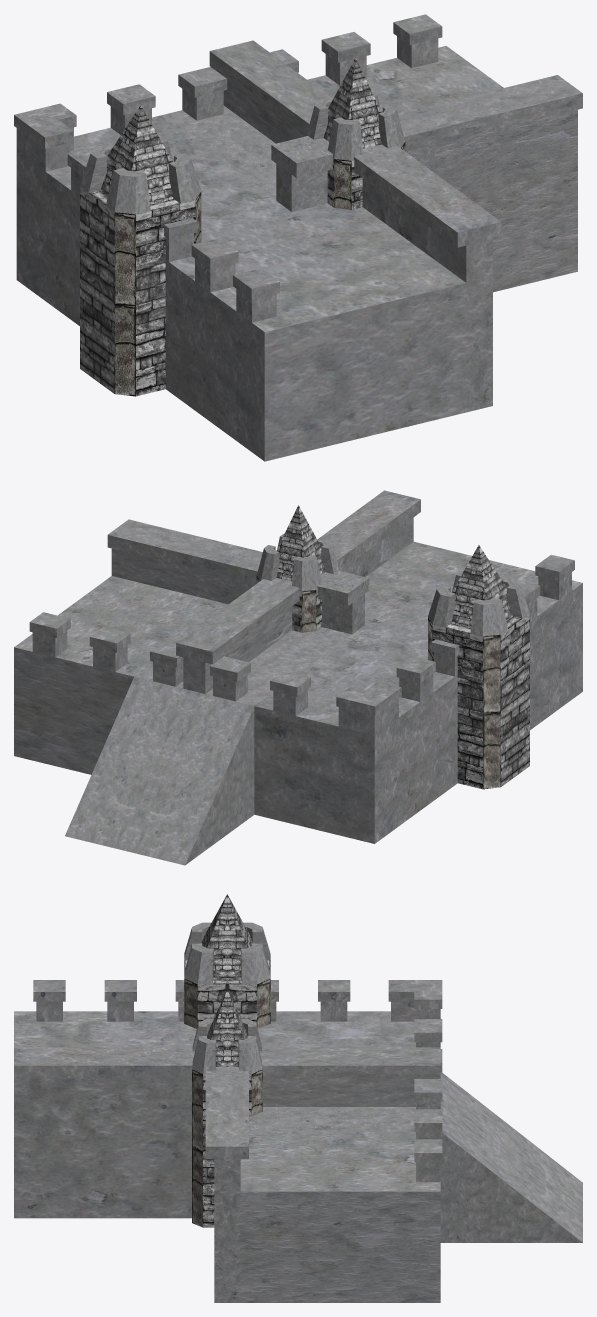
Rendered from ara-wall-v2.fbx.
3 views of the same model, one above another, from view 1: azimuth 30°, elevation 25°; view 2: azimuth 150°, elevation 25°; view 3: azimuth 270°, elevation 25° (orthographic). The views are drawn at different scales.
Parts seen in each view (by area): view 1: connector.Corner-wide, connector.Corner, ara-wall.bk, connector.L, ara-wall, ara-wall-ramp, connector.R; view 2: connector.Corner-wide, connector.Corner, ara-wall-ramp, ara-wall.bk, ara-wall, connector.L, connector.R; view 3: connector.Corner-wide, connector.Corner, ara-wall-ramp, ara-wall.bk, ara-wall, connector.R.
Boxes of the visible parts, <box> form: connector.Corner-wide: <box>14,14,578,461</box>; connector.Corner: <box>209,40,582,292</box>; ara-wall.bk: <box>80,105,201,396</box>; connector.L: <box>160,67,333,211</box>; ara-wall: <box>306,58,405,209</box>; ara-wall-ramp: <box>161,106,276,199</box>; connector.R: <box>270,49,438,172</box>; connector.Corner-wide: <box>29,490,582,843</box>; connector.Corner: <box>14,519,299,774</box>; ara-wall-ramp: <box>65,628,350,865</box>; ara-wall.bk: <box>428,545,529,789</box>; ara-wall: <box>256,505,339,632</box>; connector.L: <box>209,570,369,705</box>; connector.R: <box>134,549,262,687</box>; connector.Corner-wide: <box>14,980,442,1218</box>; connector.Corner: <box>205,1047,440,1302</box>; ara-wall-ramp: <box>249,1072,582,1242</box>; ara-wall.bk: <box>184,894,270,1028</box>; ara-wall: <box>192,989,262,1227</box>; connector.R: <box>205,1067,442,1131</box>.
Bounding box in the file's own units: 661 × 355 × 800.
